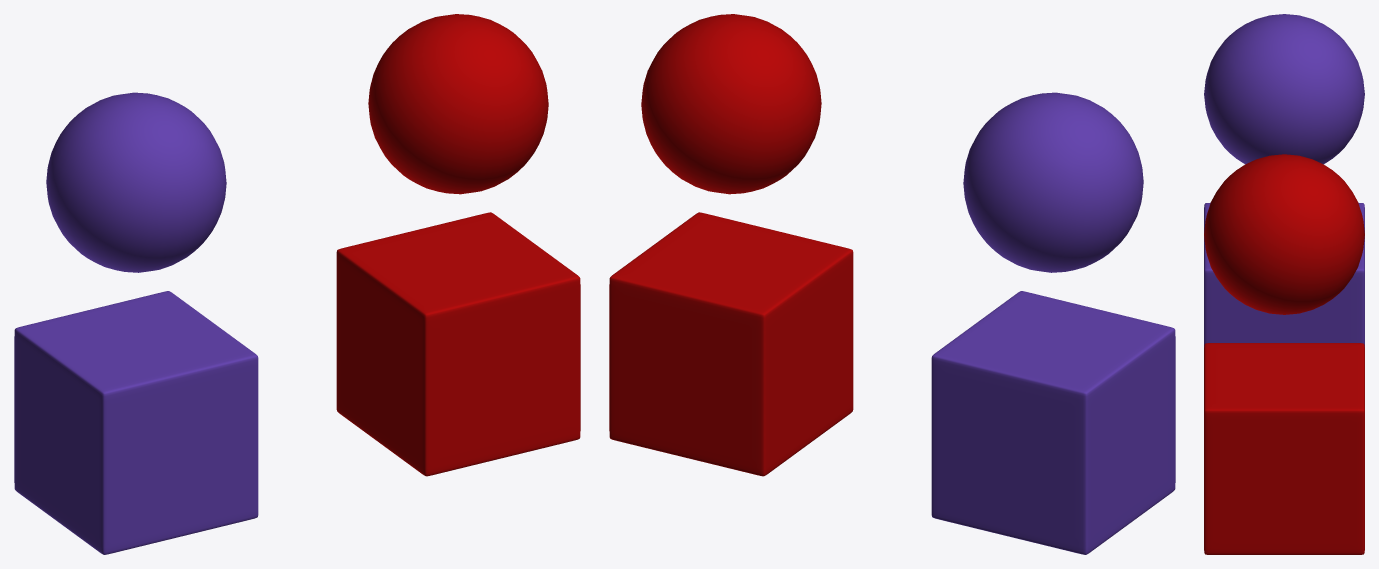
Rendered from sceneMetalnessTest.glb.
3 renders of one model, left to right at view 1: azimuth 30°, elevation 25°; view 2: azimuth 150°, elevation 25°; view 3: azimuth 270°, elevation 25°, orthographic. The views are drawn at different scales.
Parts seen in each view (by area): view 1: Box001_A_0, Box004_B_0, Box002_A_0, Box003_B_0; view 2: Box001_A_0, Box004_B_0, Box002_A_0, Box003_B_0; view 3: Box001_A_0, Box002_A_0, Box003_B_0, Box004_B_0.
Boxes of the visible parts, left/top/right/bottom form: Box001_A_0: left=336, top=212, right=580, bottom=476; Box004_B_0: left=14, top=291, right=258, bottom=554; Box002_A_0: left=368, top=14, right=548, bottom=194; Box003_B_0: left=46, top=92, right=226, bottom=272; Box001_A_0: left=609, top=212, right=853, bottom=476; Box004_B_0: left=931, top=291, right=1175, bottom=554; Box002_A_0: left=641, top=14, right=821, bottom=194; Box003_B_0: left=963, top=92, right=1143, bottom=272; Box001_A_0: left=1204, top=343, right=1364, bottom=554; Box002_A_0: left=1204, top=154, right=1364, bottom=314; Box003_B_0: left=1204, top=14, right=1364, bottom=164; Box004_B_0: left=1204, top=202, right=1364, bottom=346.
Bounding box in the file's own units: 306 × 247 × 100.
